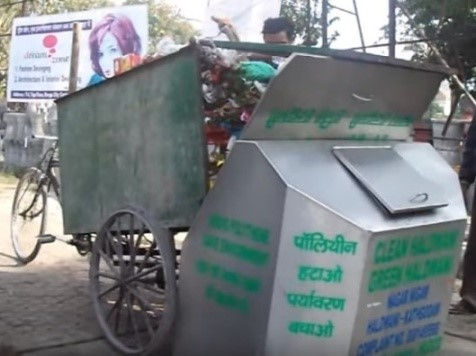garbagevan: (8, 35, 324, 356)
